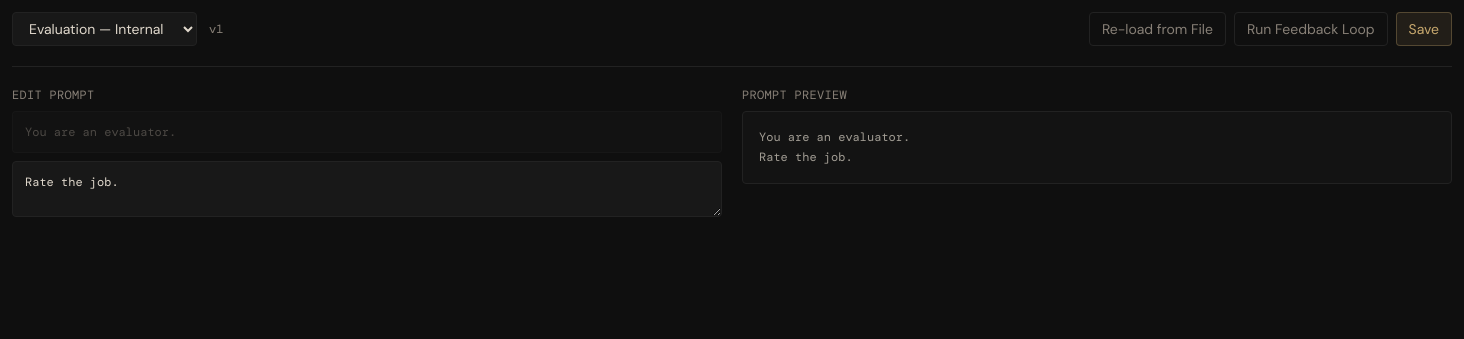
Test: PromptEditor › feedback loop › shows suggestions panel after feedback loop succeeds
Click the button "Run Feedback Loop".
click(1311, 29)  # box [1234,12,1388,46]
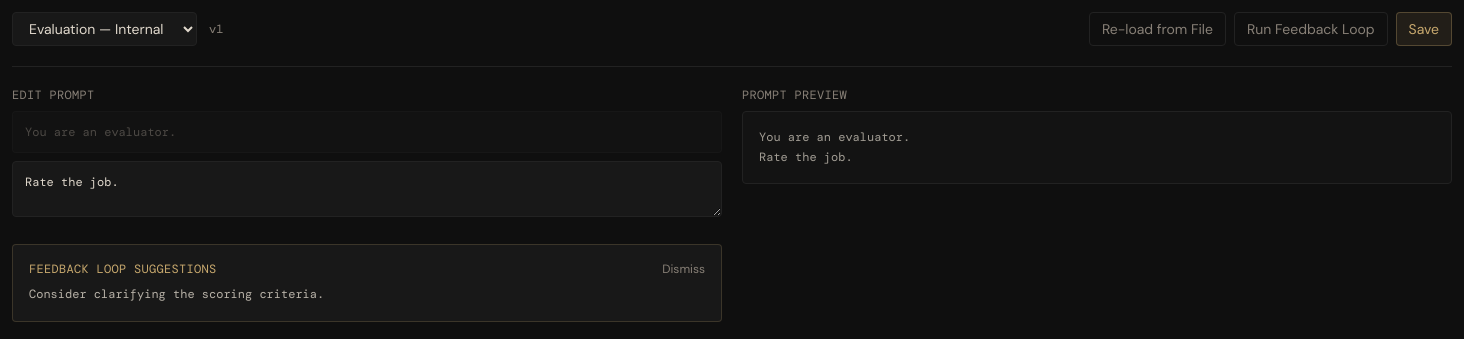
Check: the text "Consider clarifying the scoring criteria." is shown, box [29,286,324,302]
